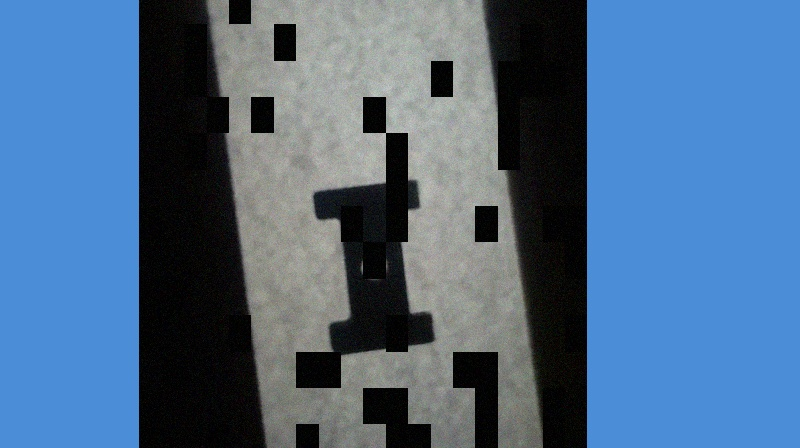O002: (309, 174, 436, 358)
